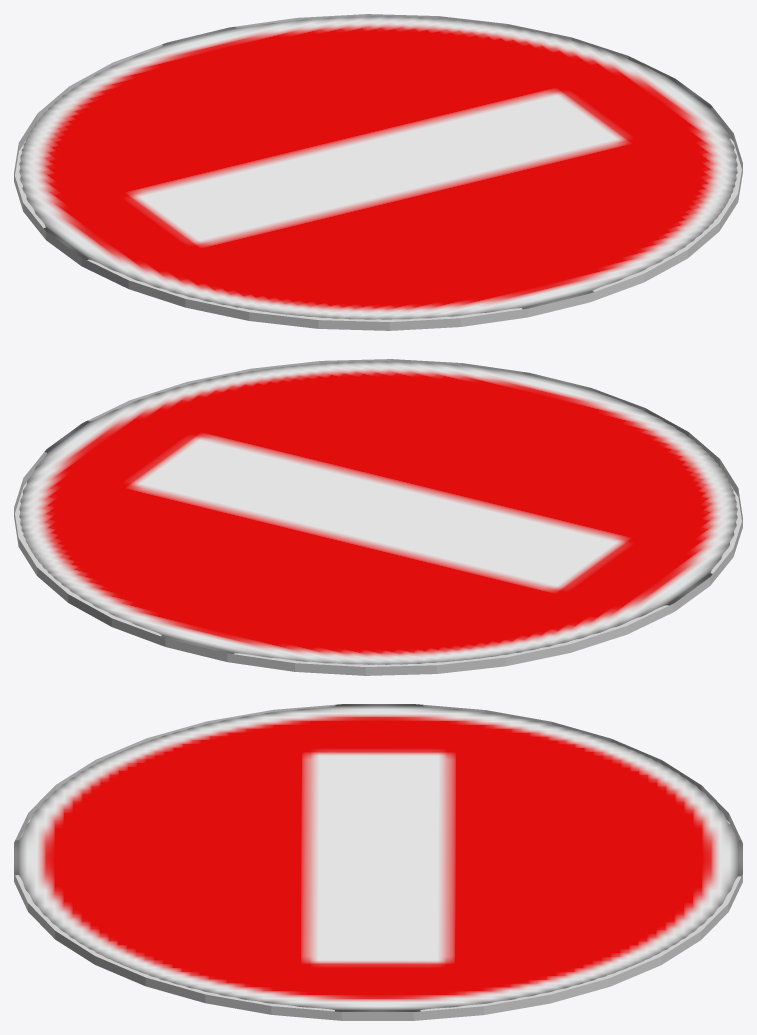
File: brick.dae
The picture shows the model from 3 angles, top to bottom: view 1: azimuth 30°, elevation 25°; view 2: azimuth 150°, elevation 25°; view 3: azimuth 270°, elevation 25°; orthographic projection.
Visible parts, largest first — view 1: Cylinder; view 2: Cylinder; view 3: Cylinder.
Part boxes in pixels (<box>): Cylinder: <box>14,14,742,330</box>; Cylinder: <box>14,359,742,675</box>; Cylinder: <box>14,704,742,1020</box>.
Size of the model in its own units: 0.1493 by 0.1493 by 0.002.
2 materials, 1 textured.
